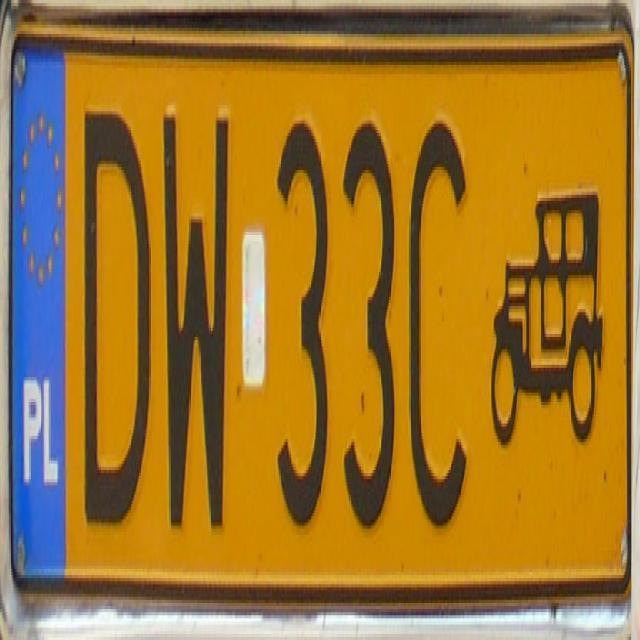License_Plate: (9, 21, 628, 598)
